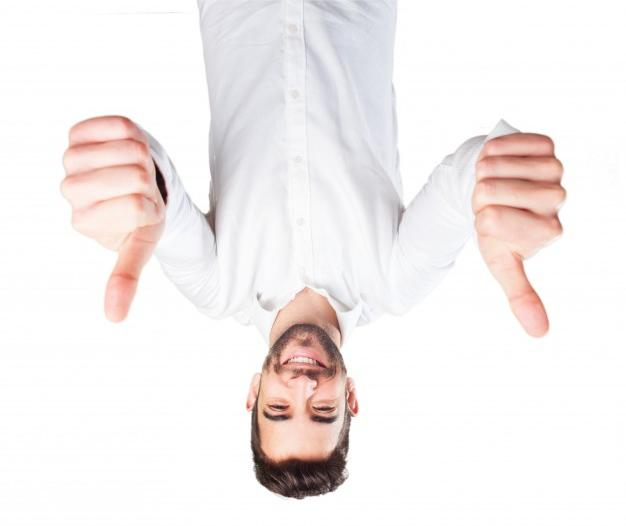thumbsdown: (60, 115, 160, 323), (470, 133, 567, 338)
